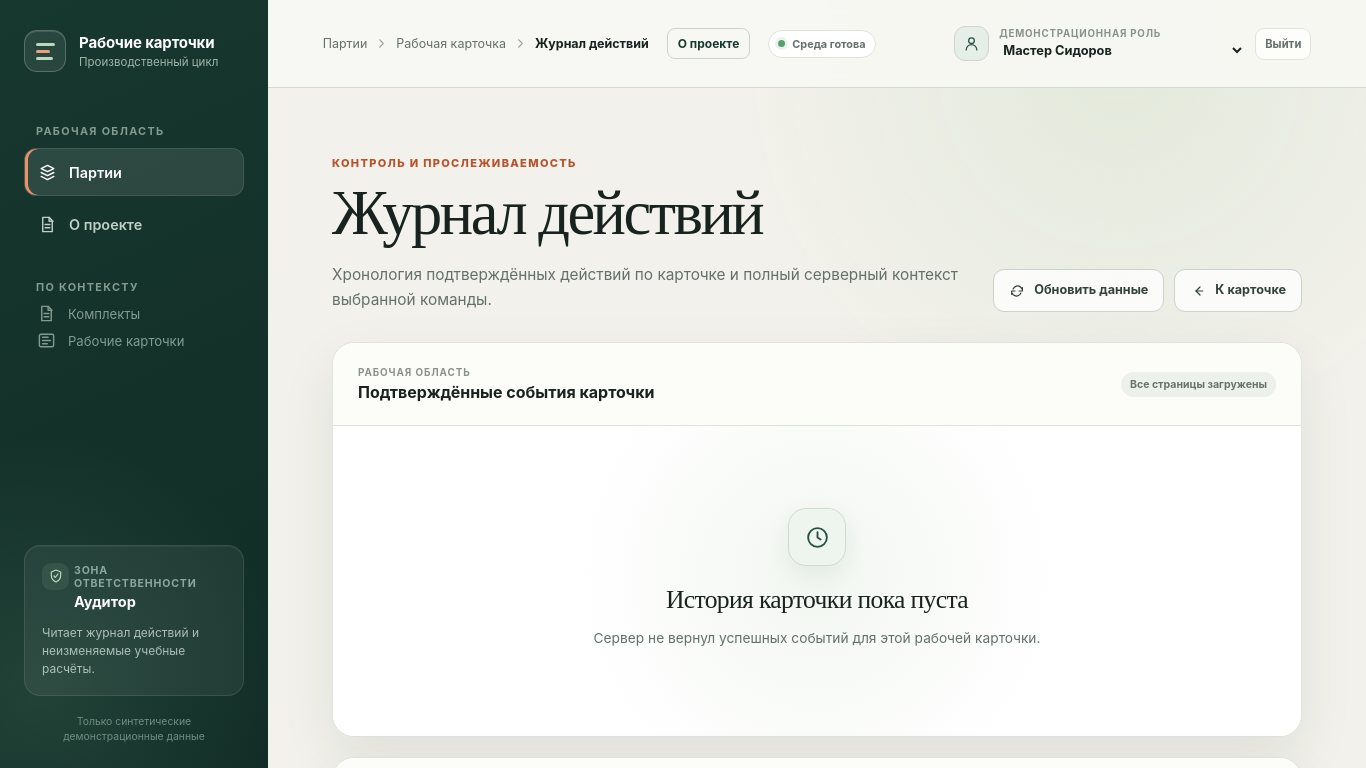
Test: смена серверной роли в оболочке › убирает прежний audit и не запрашивает защищённые данные после перехода к мастеру
This screenshot has width=1366, height=768.
Select "Мастер Сидоров" in the dropdown with id "demo-role" at (1122, 51), box [999,42,1245,59]
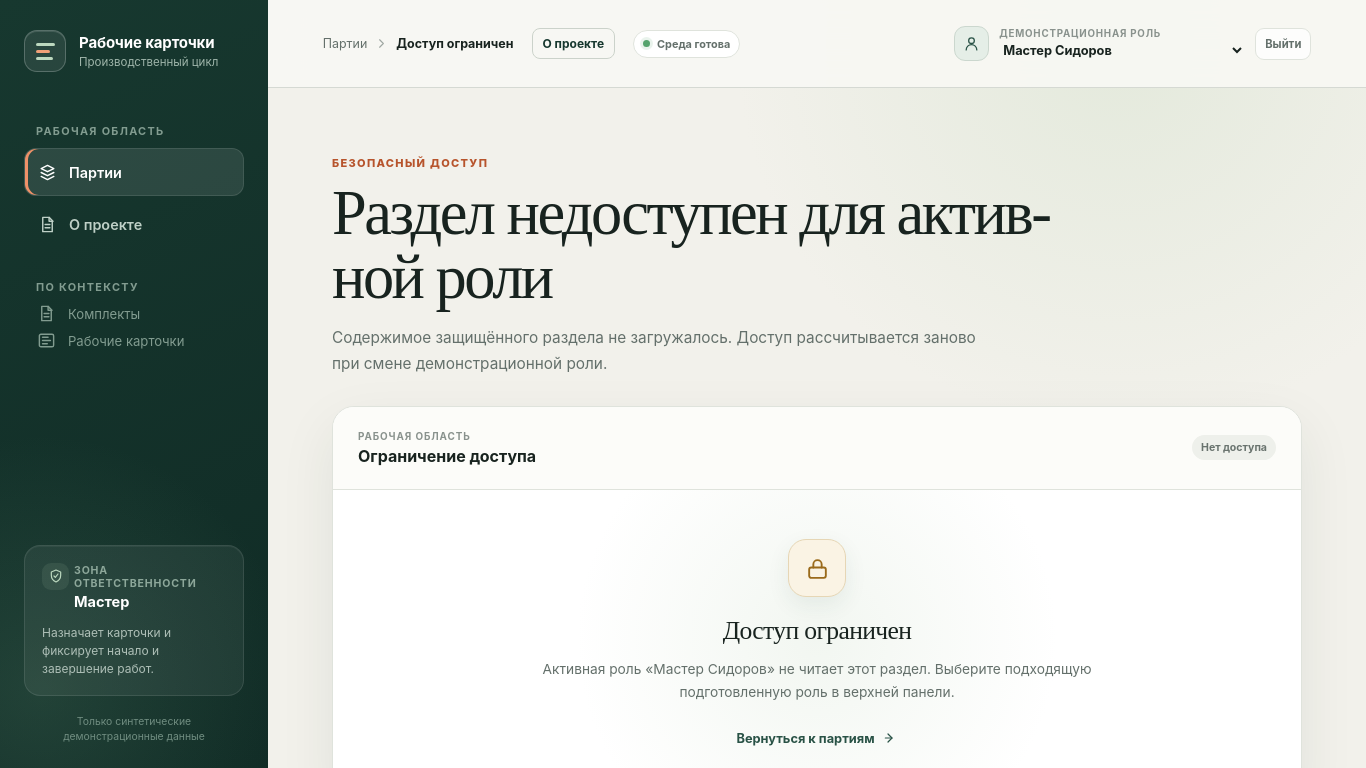
Check: the text "Доступ ограничен" is shown, box [396,36,514,51]
Check: the text "Содержимое защищённого раздела не загружалось" is shown, box [332,328,976,373]
